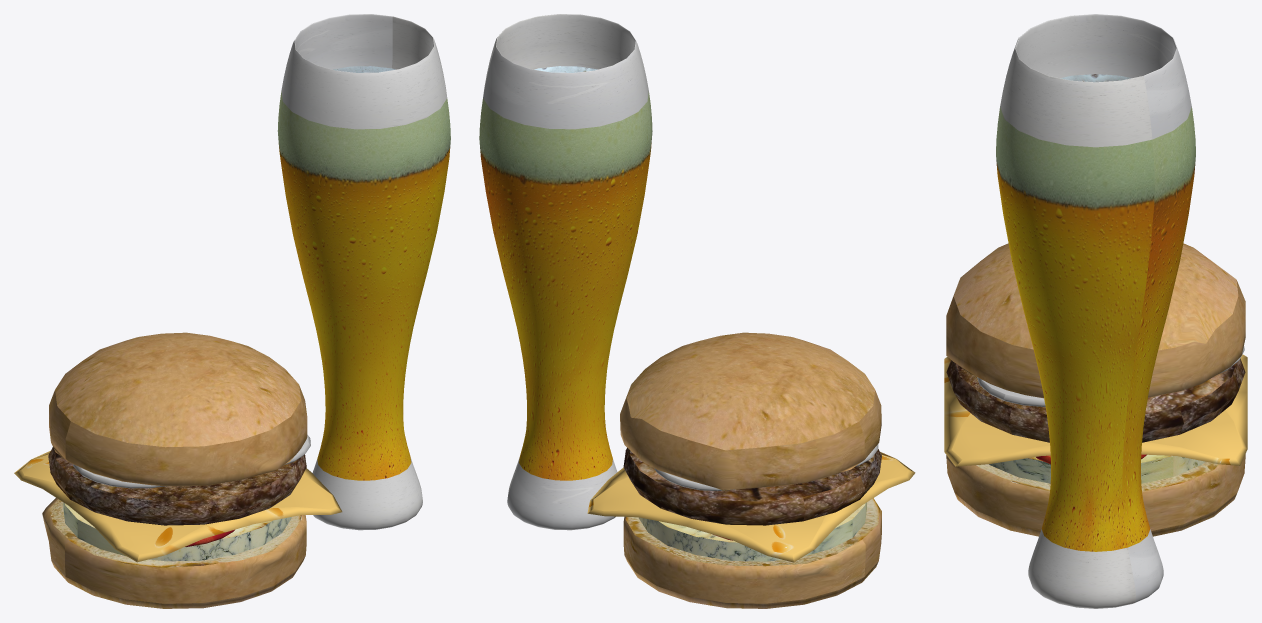
File: fuck.FBX
3 renders of one model, left to right at view 1: azimuth 30°, elevation 25°; view 2: azimuth 150°, elevation 25°; view 3: azimuth 270°, elevation 25°, orthographic. The views are drawn at different scales.
Visible parts, largest first — view 1: Osy, beer; view 2: Osy, beer; view 3: beer, Osy.
Boxes of the visible parts, bbox=[...] form: Osy: bbox=[14, 332, 342, 608]; beer: bbox=[277, 14, 450, 530]; Osy: bbox=[587, 332, 915, 608]; beer: bbox=[479, 14, 652, 530]; beer: bbox=[996, 14, 1195, 608]; Osy: bbox=[944, 243, 1247, 536].
Size of the model in its own units: 302 by 361 by 184.
